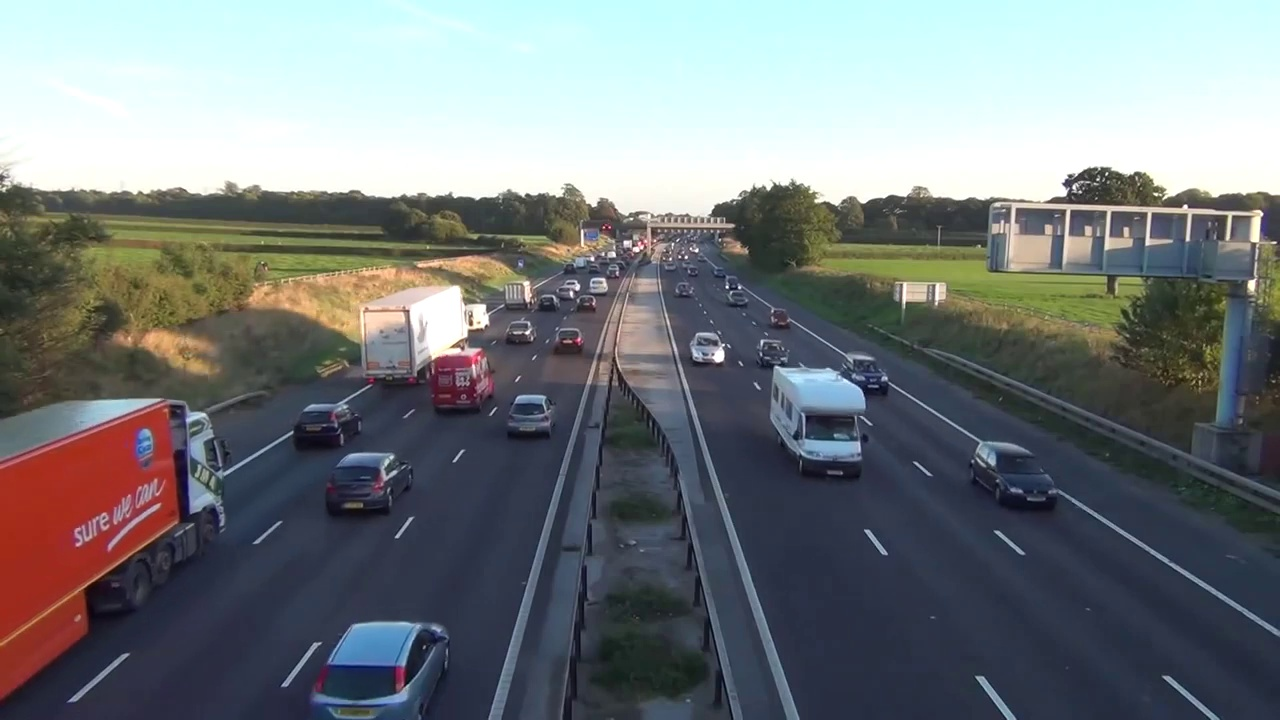bus: (309, 620, 449, 720), (966, 437, 1058, 514), (322, 450, 414, 518), (296, 400, 365, 453), (505, 392, 556, 439), (842, 352, 891, 397), (689, 329, 727, 364), (756, 339, 790, 368), (504, 319, 534, 347), (556, 328, 583, 353), (767, 307, 792, 329), (728, 289, 749, 310), (574, 296, 599, 312), (673, 281, 696, 298), (538, 293, 559, 310)
car: (0, 397, 226, 710), (362, 282, 468, 381), (506, 280, 534, 310)
lorry: (464, 302, 490, 329)
minibus: (769, 365, 863, 481), (433, 348, 493, 413)
